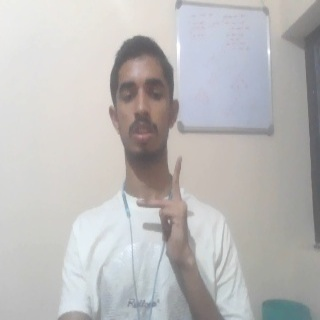Okay: (136, 153, 194, 267)
